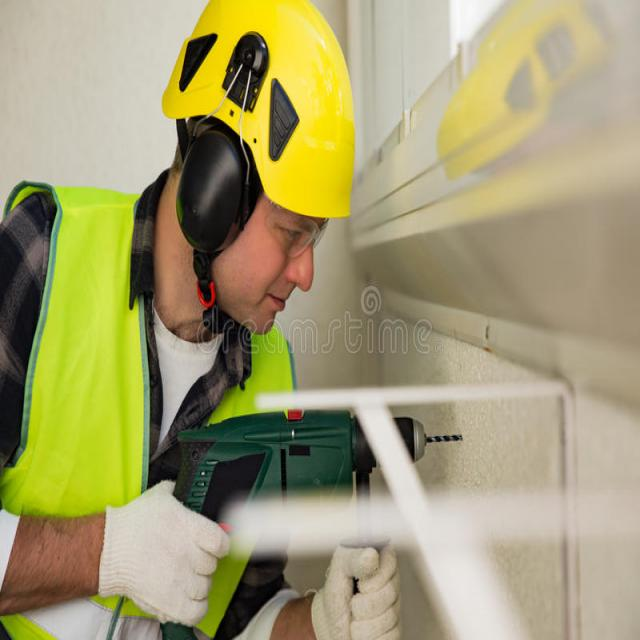Reflective-Jacket: (0, 185, 296, 635)
Safety-Helmet: (162, 3, 358, 225)
